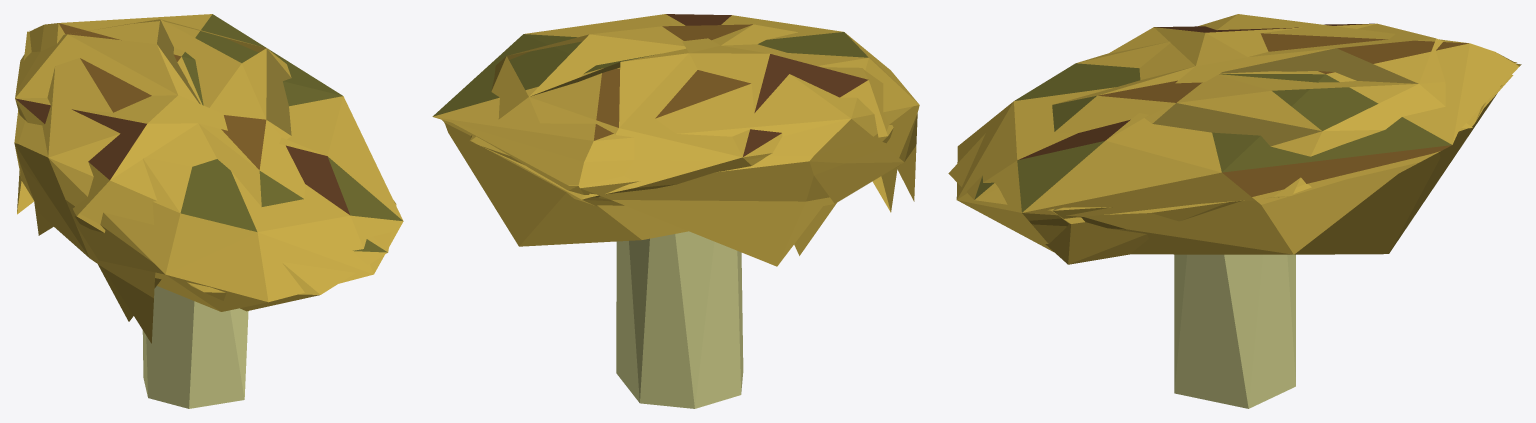
The model's file is gele_ridderzwam.fbx.
The picture shows the model from 3 angles, left to right: view 1: azimuth 30°, elevation 25°; view 2: azimuth 150°, elevation 25°; view 3: azimuth 270°, elevation 25°; orthographic projection. The views are drawn at different scales.
Parts seen in each view (by area): view 1: Torus, Cylinder; view 2: Torus, Cylinder; view 3: Torus, Cylinder.
Part boxes in pixels (x1=…): Torus: x1=14, y1=14, x2=403, y2=343; Cylinder: x1=142, y1=286, x2=248, y2=408; Torus: x1=432, y1=14, x2=919, y2=266; Cylinder: x1=616, y1=231, x2=743, y2=408; Torus: x1=948, y1=14, x2=1521, y2=264; Cylinder: x1=1174, y1=254, x2=1295, y2=408.
Size of the model in its own units: 206 by 199 by 307.
